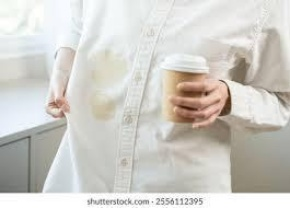coffee: (92, 54, 127, 86), (91, 91, 115, 120)
